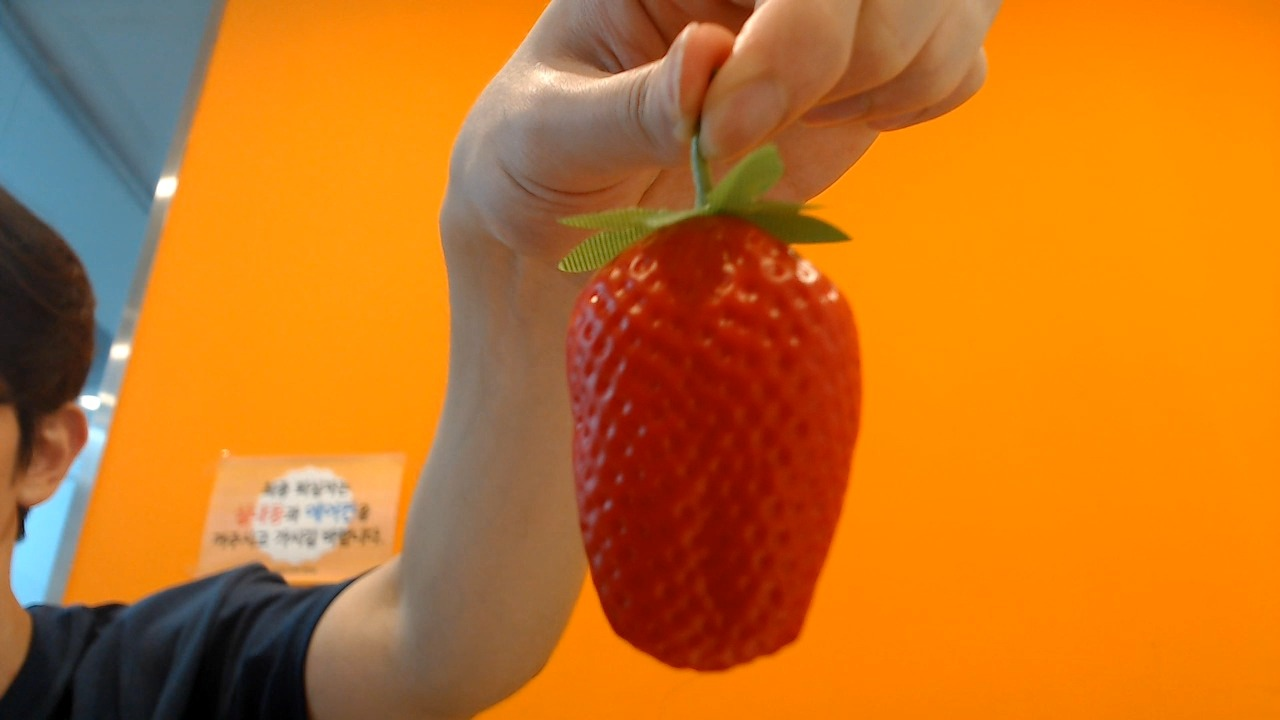strawberry: (564, 198, 864, 669)
